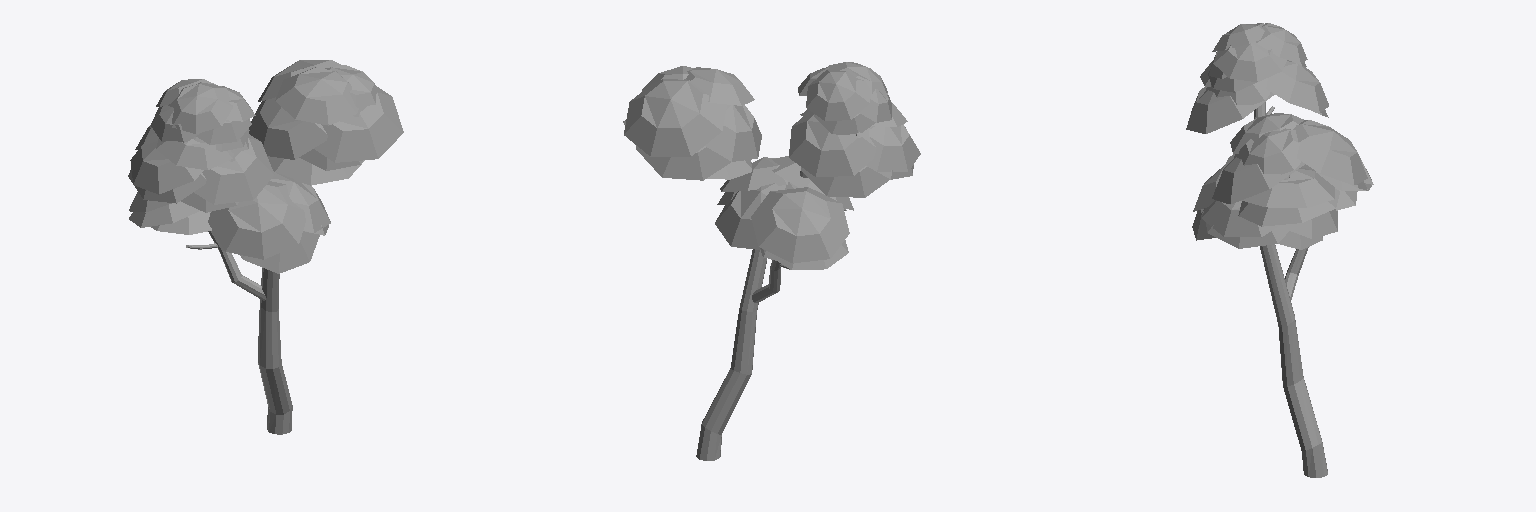
Rendered from Birch_5.obj.
3 views of the same model, side by side, from view 1: azimuth 30°, elevation 25°; view 2: azimuth 150°, elevation 25°; view 3: azimuth 270°, elevation 25° (orthographic).
Parts seen in each view (by area): view 1: Birch_5_Cylinder.030; view 2: Birch_5_Cylinder.030; view 3: Birch_5_Cylinder.030.
Boxes of the visible parts, box(x1,y1,x2,y2) form: Birch_5_Cylinder.030: box(128, 60, 403, 434); Birch_5_Cylinder.030: box(623, 62, 920, 460); Birch_5_Cylinder.030: box(1186, 23, 1373, 477).
Size of the model in its own units: 6.35 by 9.08 by 3.93.